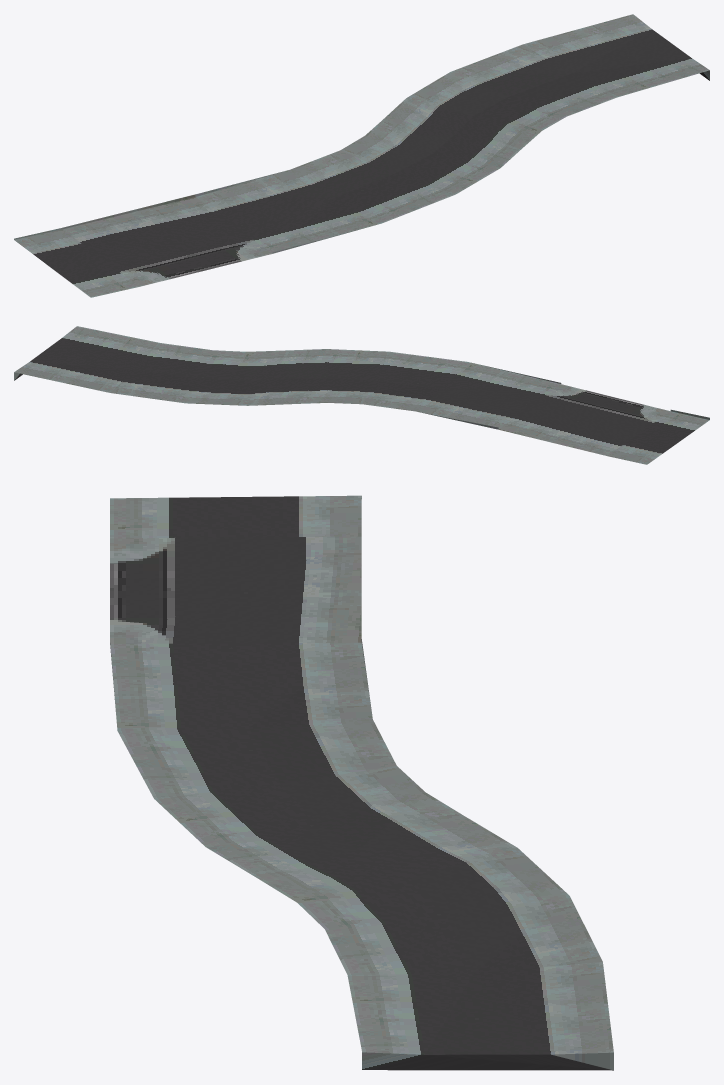
File: lodroad05_lan2.obj
The picture shows the model from 3 angles, top to bottom: view 1: azimuth 30°, elevation 25°; view 2: azimuth 150°, elevation 25°; view 3: azimuth 270°, elevation 25°; orthographic projection. The views are drawn at different scales.
Parts seen in each view (by area): view 1: LODroad05_LAn2; view 2: LODroad05_LAn2; view 3: LODroad05_LAn2.
Part boxes in pixels (box(x1,y1,x2,y2)): LODroad05_LAn2: box(14, 14, 709, 297); LODroad05_LAn2: box(14, 326, 709, 464); LODroad05_LAn2: box(110, 495, 613, 1070).
Bounding box in the file's own units: 105 × 1.81 × 40.02.
2 materials, 2 textured.
